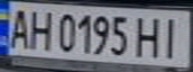0: (54, 10, 78, 53)
1: (72, 11, 93, 54)
5: (109, 11, 136, 57)
9: (90, 11, 112, 55)
A: (3, 4, 33, 50)
H: (133, 12, 166, 59), (24, 6, 54, 52)
I: (157, 14, 187, 58)
